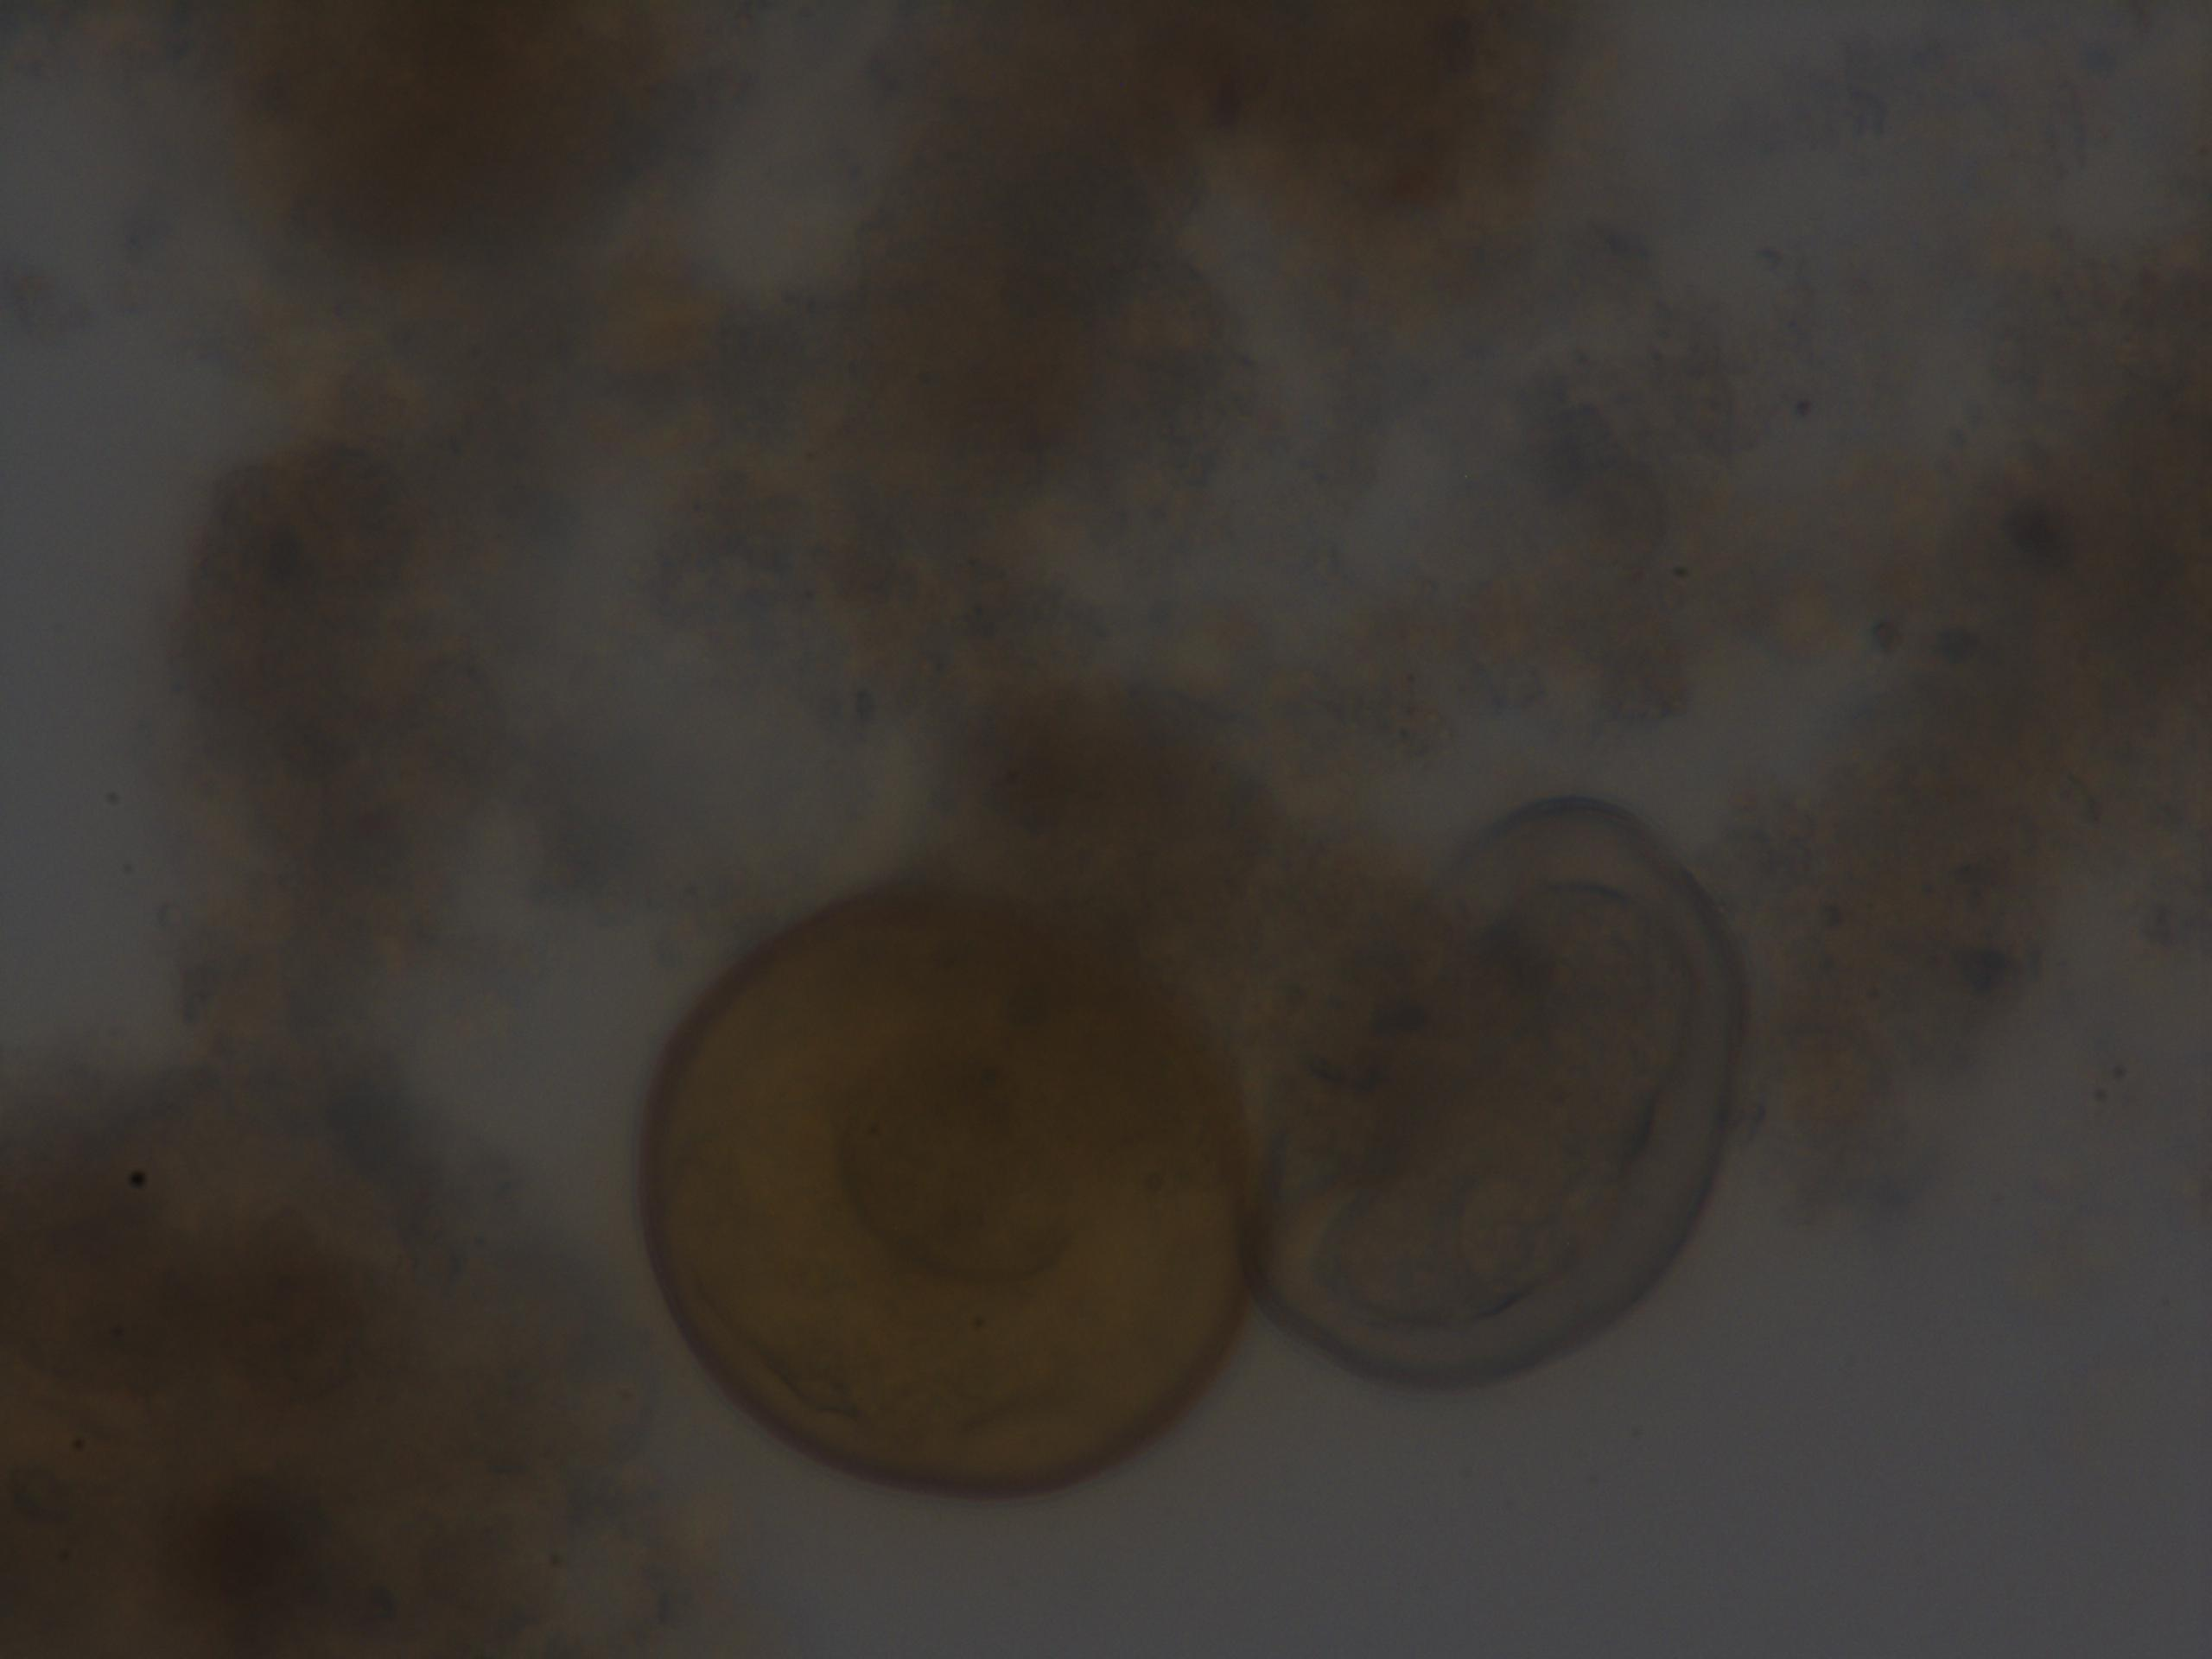protozoa: (631, 868, 1271, 1504), (1261, 781, 1754, 1406)
